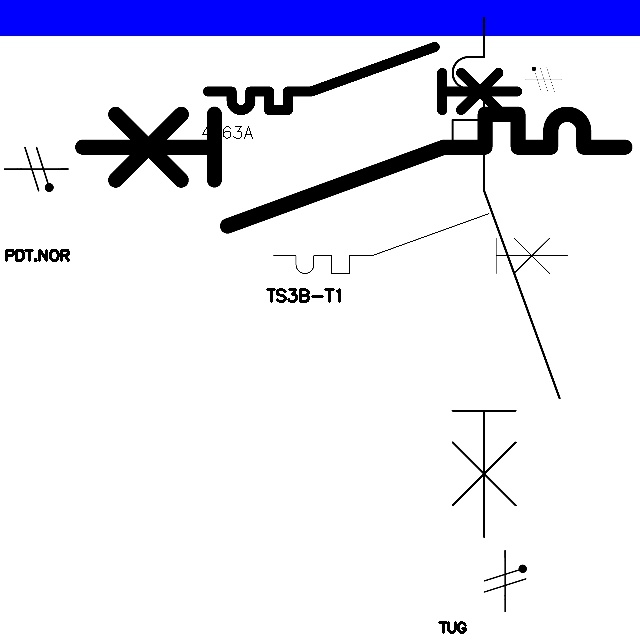interruptor_termomagnetico: (68, 100, 638, 239), (439, 4, 572, 550), (200, 39, 525, 118), (266, 206, 575, 281)
